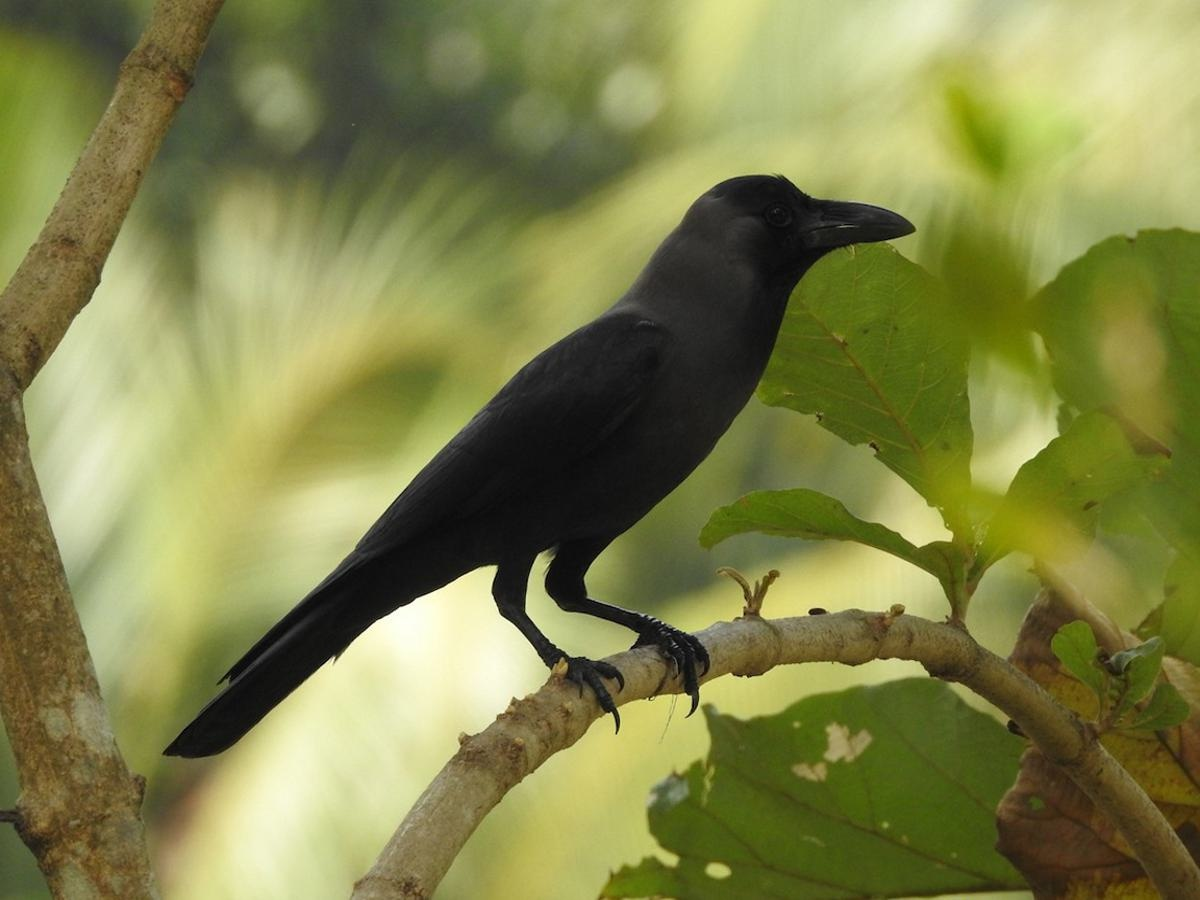crow: (189, 170, 915, 799)
